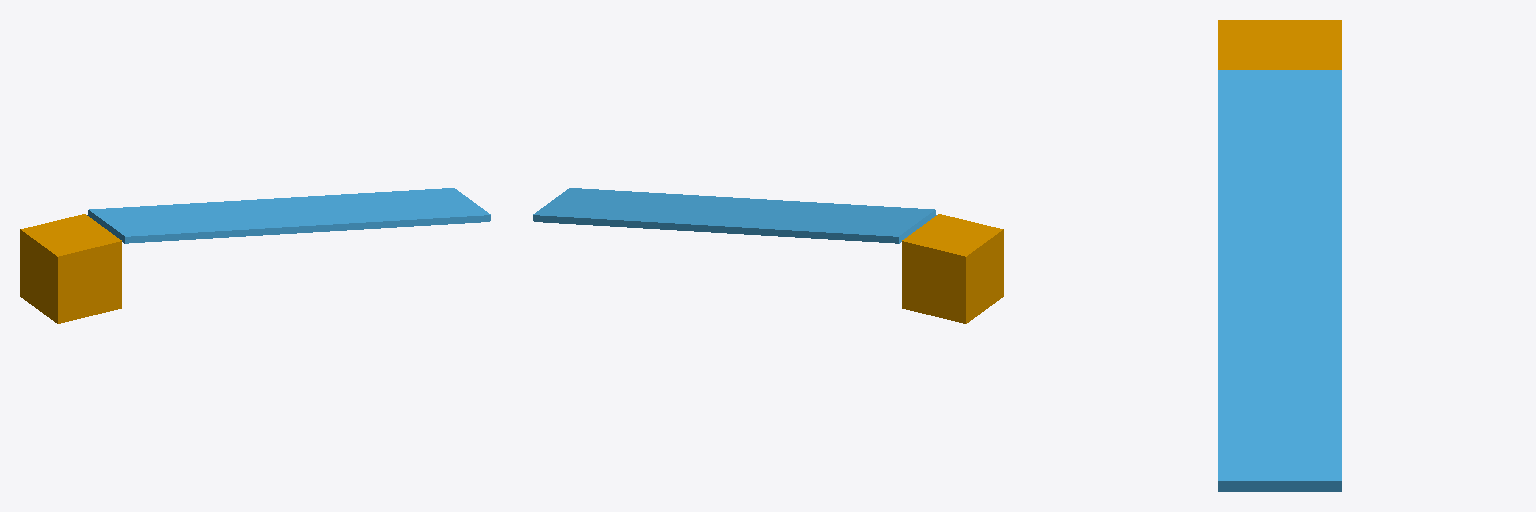
robot.urdf — ramp:
<?xml version="1.0"?>

<robot name="ramp" xmlns:xacro="http://ros.org/wiki/xacro">
  <!--box1 pillar-->
  <link name="box1">
    <visual>
      <geometry>
        <box size="1 1 1"/>
      </geometry>
    </visual>
    
    <collision>
      <geometry>
        <box size="1 1 1"/>
      </geometry>
    </collision>
    
    <inertial>
      <mass value ="1.0"/>
      <inertia ixx="0.167" ixy ="0" ixz="0" iyy= "0.167" iyz= "0" izz="0.167"/>
    </inertial>
  </link>
  
  <!--box2 ramp-->
  <link name="box2">
    <visual>
      <origin xyz ="0 0 0" rpy = "0 0.1745 0"/>
      <geometry>
        <box size="5.76 1 0.10"/>
      </geometry>
    </visual>
    
    <collision>
      <origin xyz ="0 0 0" rpy = "0 0.1745 0"/>
      <geometry>
        <box size="5.76 1 0.10"/>
      </geometry>
    </collision>
    
    <inertial>
      <mass value ="1.0"/>
      <inertia ixx="0.167" ixy ="0" ixz="0" iyy= "0.167" iyz= "0" izz="0.167"/>
    </inertial>
  </link>
  
  <!--joint for 2 links of ramp-->
  <joint name="box1-box2" type="prismatic">
    <origin xyz="3.38 0 0" rpy="0 0 0"/>
    <parent link="box1"/>
    <child link="box2"/>
    <axis xyz="1.0 0 0"/>
    <limit effort="1000.0" lower="0.0" upper="0.0" velocity="0.5"/>
  </joint>
  
  <!--gazebo tags for links-->
  <gazebo reference="box1">
    <material>Gazebo/Orange</material>
    <mu1>0.8</mu1>
    <mu2>0.8</mu2>
    <min_depth>0.001</min_depth>
    <kp>1e7</kp>
    <kd>1.0</kd>
  </gazebo>
  
  <!--gazebo tags for links-->
  <gazebo reference="box2">
    <material>Gazebo/Orange</material>
    <mu1>0.8</mu1>
    <mu2>0.8</mu2>
    <min_depth>0.001</min_depth>
    <kp>1e7</kp>
    <kd>1.0</kd>
  </gazebo>
</robot>

--- Facts derived from the render (not from the file) ---
3 views of the same robot in one strip: view 1: azimuth 30°, elevation 25°; view 2: azimuth 150°, elevation 25°; view 3: azimuth 270°, elevation 25° (orthographic).
Robot: ramp — 2 links, 1 joints (1 prismatic); root link box1; default pose: every joint at zero.
Links seen in each view (by area): view 1: box2, box1; view 2: box2, box1; view 3: box2, box1.
Link boxes in pixels (x1=…): box2: x1=87, y1=188, x2=490, y2=243; box1: x1=20, y1=214, x2=121, y2=323; box2: x1=533, y1=188, x2=936, y2=243; box1: x1=902, y1=214, x2=1003, y2=323; box2: x1=1218, y1=70, x2=1341, y2=491; box1: x1=1218, y1=20, x2=1341, y2=69.
Size in the robot's own frame: 6.72 by 1 by 1.1 metres.
Geometry: primitives only (box / cylinder / sphere), no mesh files.